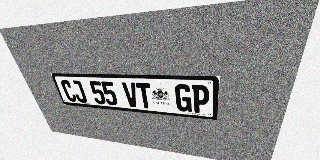5: (100, 81, 119, 106), (89, 81, 107, 105)
C: (60, 80, 78, 102)
G: (175, 84, 192, 112)
J: (70, 80, 88, 103)
P: (192, 85, 210, 114)
T: (135, 83, 153, 109)
V: (122, 82, 140, 108)
